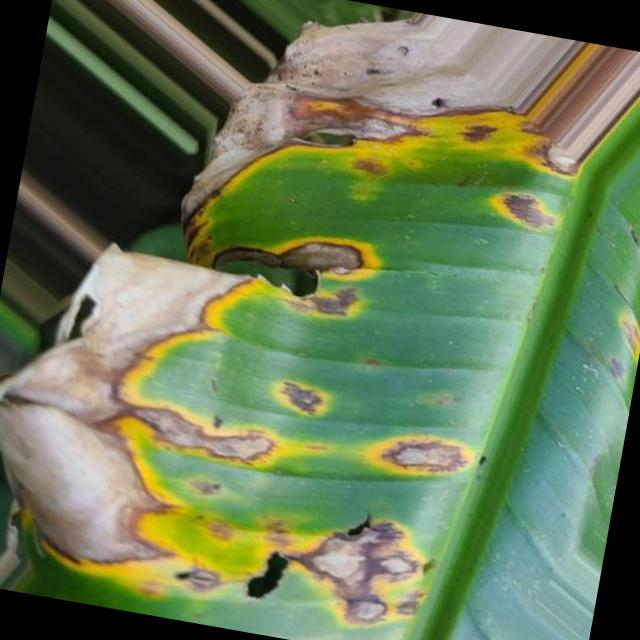Banana_Black_Sigatoka: (0, 216, 491, 640), (184, 0, 587, 285)
